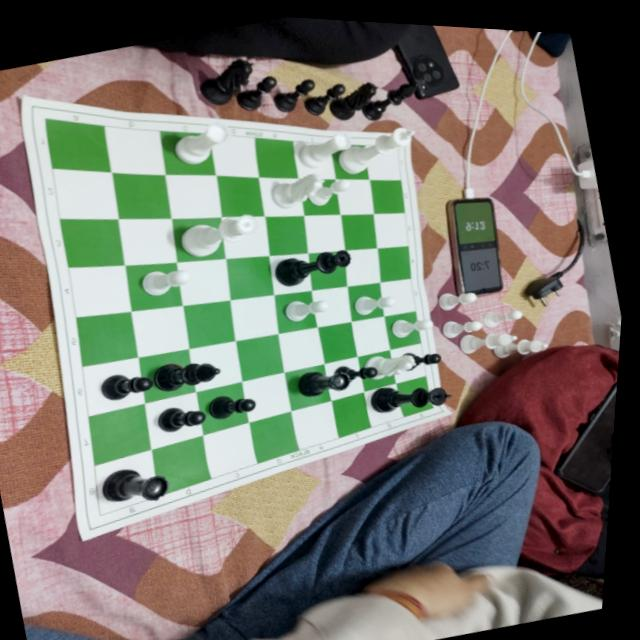board: (24, 95, 451, 539)
square: (94, 448, 158, 513), (88, 402, 151, 464), (151, 433, 210, 495), (82, 356, 144, 415), (46, 117, 111, 171), (144, 390, 203, 449), (52, 167, 119, 218), (77, 311, 137, 366), (69, 264, 131, 316), (60, 217, 124, 266), (202, 421, 257, 478), (138, 348, 196, 402), (131, 304, 189, 356), (104, 125, 165, 173), (195, 381, 248, 434), (118, 217, 177, 264), (189, 340, 242, 391), (111, 172, 171, 217), (125, 262, 181, 310), (249, 410, 299, 462), (241, 370, 291, 421), (182, 299, 235, 347), (159, 129, 215, 174), (177, 258, 230, 305), (165, 173, 221, 217), (171, 216, 225, 261), (290, 400, 338, 449), (236, 332, 283, 380), (230, 294, 278, 340), (209, 132, 259, 176), (284, 363, 331, 409), (277, 326, 324, 371), (221, 215, 270, 258), (226, 255, 273, 299), (215, 174, 264, 216), (273, 289, 317, 332), (258, 175, 304, 215), (331, 390, 370, 437), (269, 252, 312, 294), (323, 355, 363, 400), (264, 214, 307, 255), (255, 136, 298, 177), (364, 382, 403, 426), (292, 140, 336, 178), (311, 285, 351, 326), (318, 320, 357, 362), (304, 213, 345, 252), (357, 349, 395, 391), (351, 315, 390, 355), (395, 375, 433, 416), (298, 177, 340, 214), (308, 249, 346, 289), (347, 281, 384, 320), (344, 246, 380, 285), (330, 142, 369, 178), (390, 342, 425, 382), (384, 310, 420, 348), (341, 212, 377, 249), (380, 277, 415, 315), (335, 178, 373, 213), (363, 144, 400, 179), (373, 211, 408, 247), (377, 244, 410, 281), (369, 178, 404, 212)
